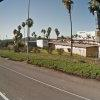Palm tree: (59, 2, 78, 52)
